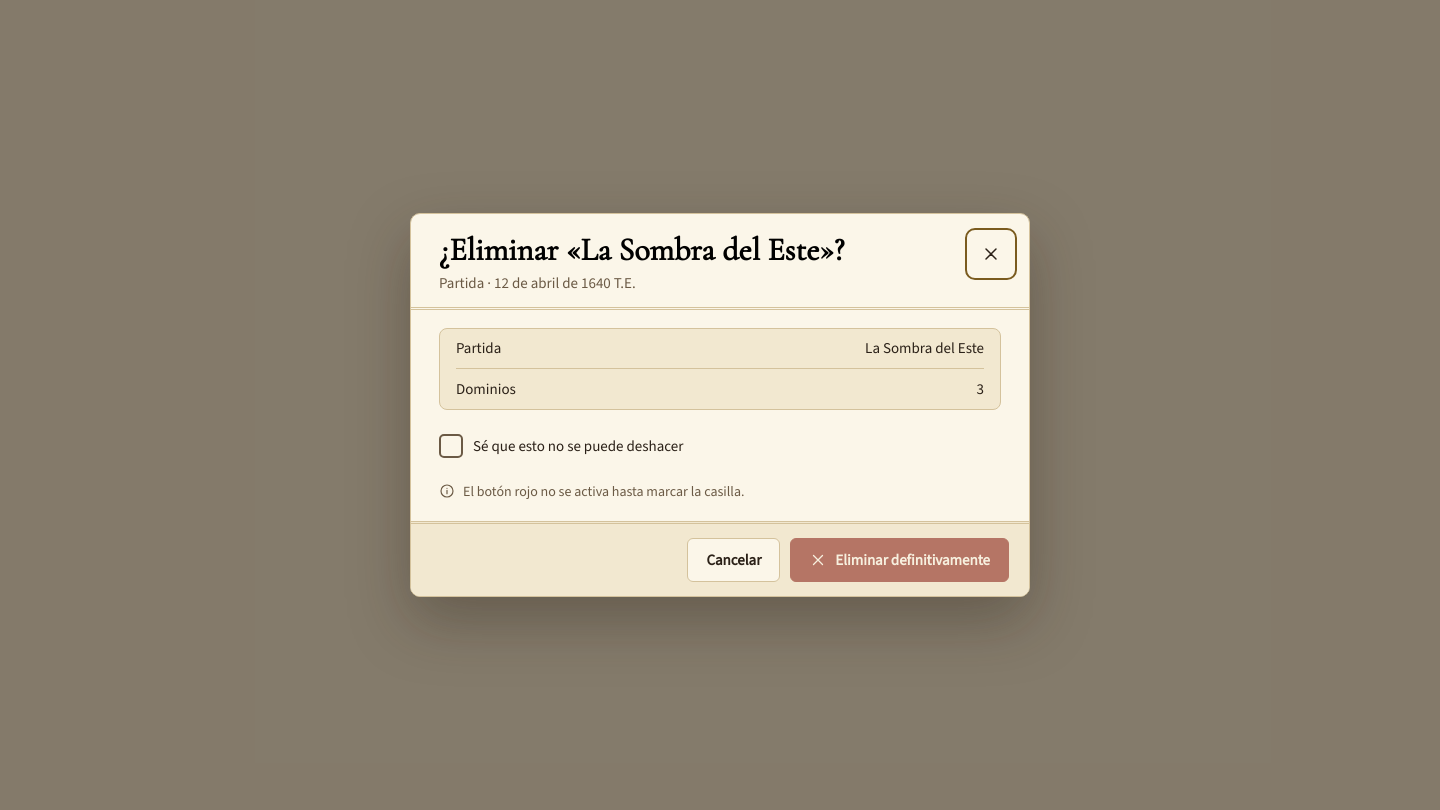
Test: ConfirmacionEliminar (J2d) › «Eliminar definitivamente» está desactivado hasta marcar la casilla; después llama a alEliminar
Later steps or results of the test are not shown.
expect the button "Eliminar definitivamente" is disabled: met, box [790,538,1009,582]
Click the checkbox labelled "Sé que esto no se puede deshacer": (561, 446) [439,434,684,458]
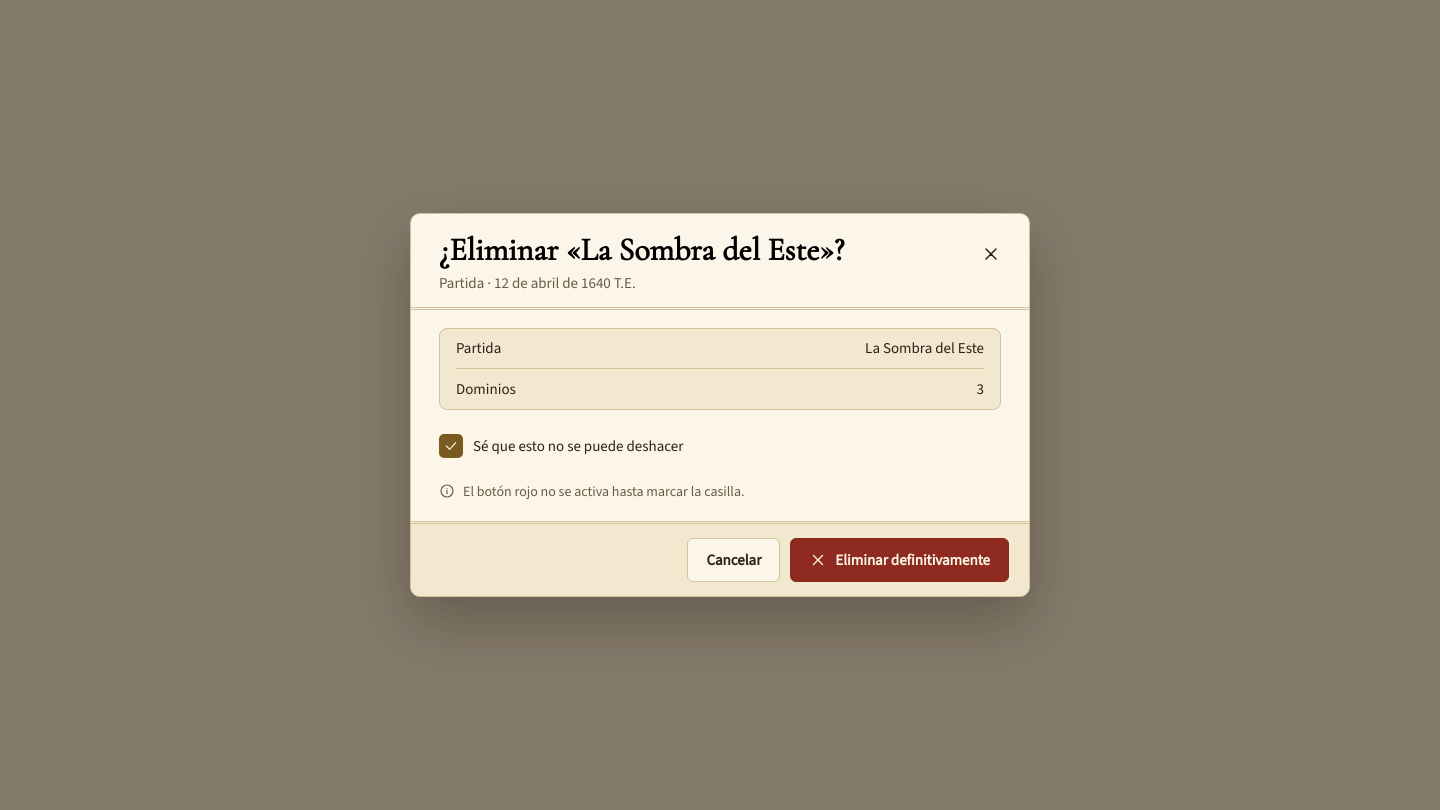
expect the button "Eliminar definitivamente" is enabled: met, box [790,538,1009,582]
